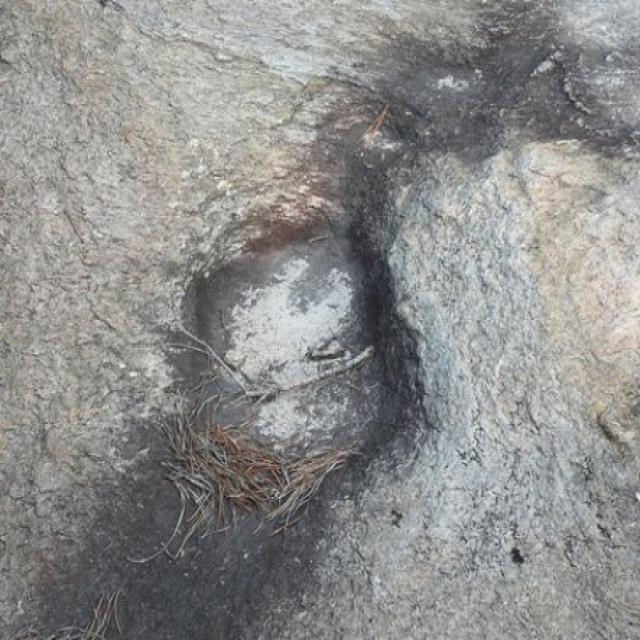pothole: (127, 191, 426, 631)
